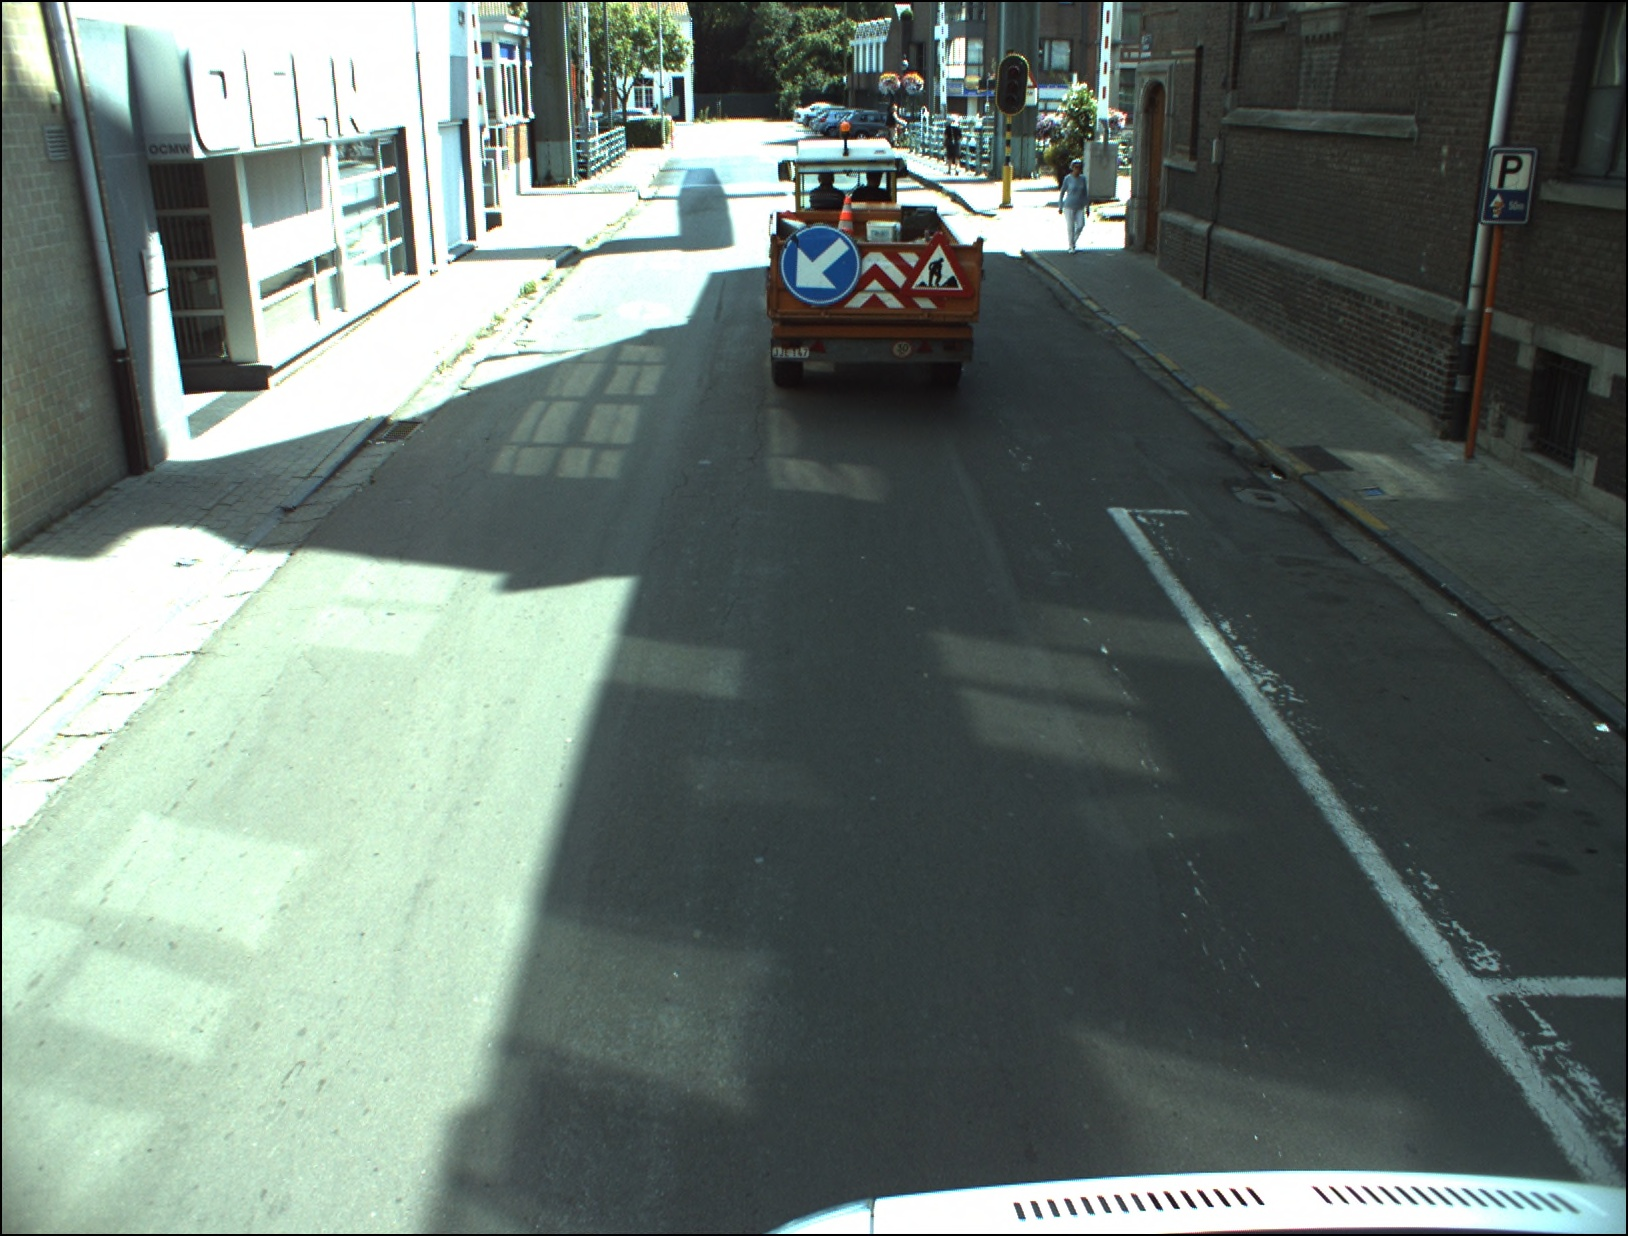construction: (898, 235, 974, 297)
passleft: (780, 227, 859, 305)
